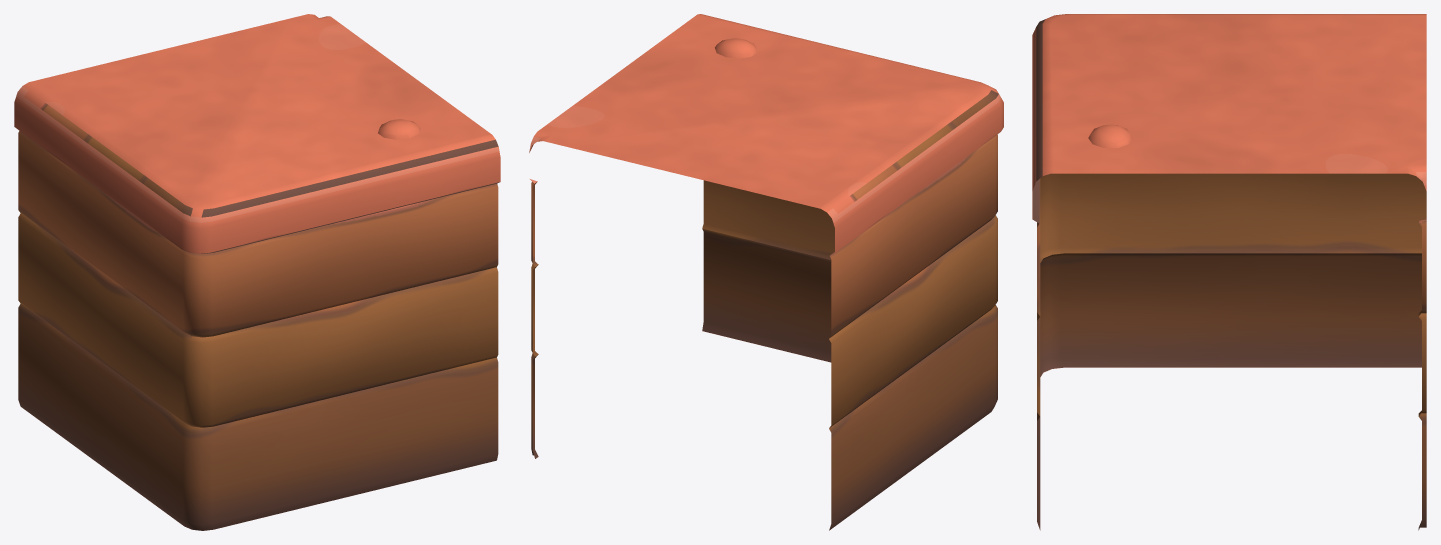
Rendered from wall_corner.glb.
3 renders of one model, left to right at view 1: azimuth 30°, elevation 25°; view 2: azimuth 150°, elevation 25°; view 3: azimuth 270°, elevation 25°, orthographic. The views are drawn at different scales.
Parts seen in each view (by area): view 1: wall_corner; view 2: wall_corner; view 3: wall_corner.
Boxes of the visible parts, x1=… form: wall_corner: x1=14, y1=14, x2=500, y2=530; wall_corner: x1=529, y1=14, x2=1003, y2=530; wall_corner: x1=1032, y1=14, x2=1426, y2=530.
Size of the model in its own units: 1 by 1.03 by 1.
Materials: 2 (2 with a texture image).
